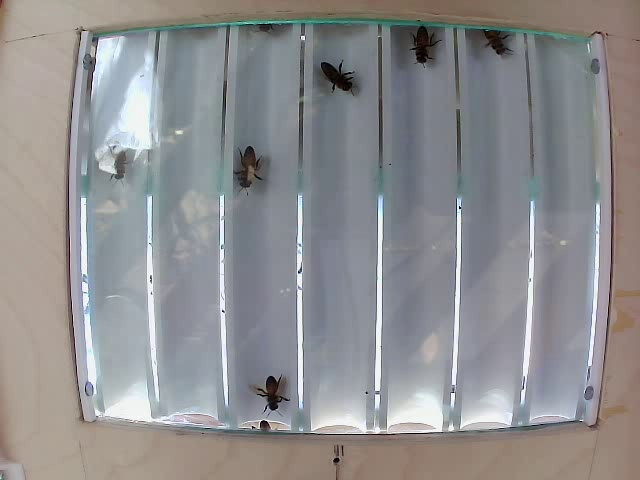bee: (232, 134, 281, 205), (96, 142, 149, 195), (406, 20, 443, 85), (305, 65, 358, 105), (243, 366, 292, 409), (481, 30, 522, 65)
